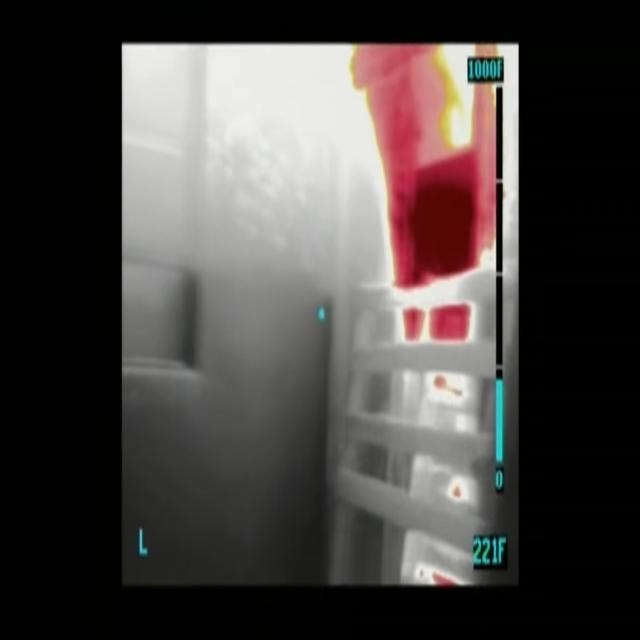fire: (351, 44, 503, 343)
